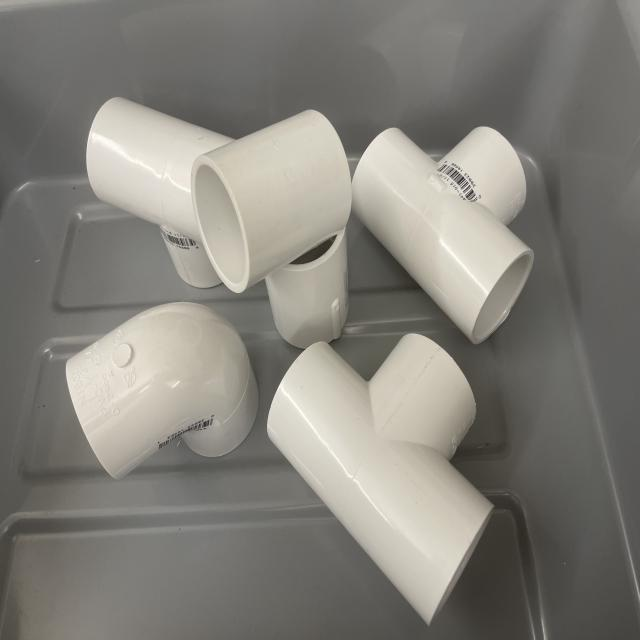L Joint: (66, 302, 258, 480)
T Joint: (265, 333, 495, 628), (352, 128, 534, 347)
